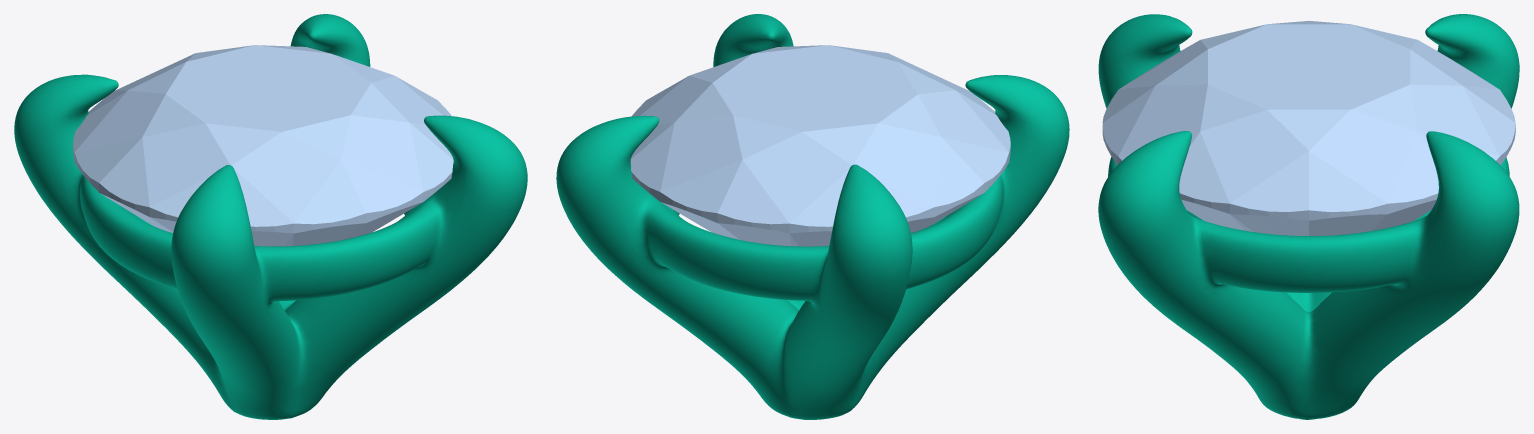
Rendered from 4 Prong Round_1.50ct.glb.
The picture shows the model from 3 angles, left to right: view 1: azimuth 30°, elevation 25°; view 2: azimuth 150°, elevation 25°; view 3: azimuth 270°, elevation 25°; orthographic projection. The views are drawn at different scales.
Visible parts, largest first — view 1: /4 Prong Round_2.00ct.3dm, Diamond_Round; view 2: /4 Prong Round_2.00ct.3dm, Diamond_Round; view 3: /4 Prong Round_2.00ct.3dm, Diamond_Round.
Boxes of the visible parts, box(x1,y1,x2,y2) form: /4 Prong Round_2.00ct.3dm: box(14, 14, 527, 419); Diamond_Round: box(73, 45, 453, 246); /4 Prong Round_2.00ct.3dm: box(556, 14, 1069, 419); Diamond_Round: box(630, 45, 1010, 246); /4 Prong Round_2.00ct.3dm: box(1098, 14, 1519, 419); Diamond_Round: box(1102, 21, 1515, 235).
Size of the model in its own units: 7.57 by 6.65 by 7.57.
